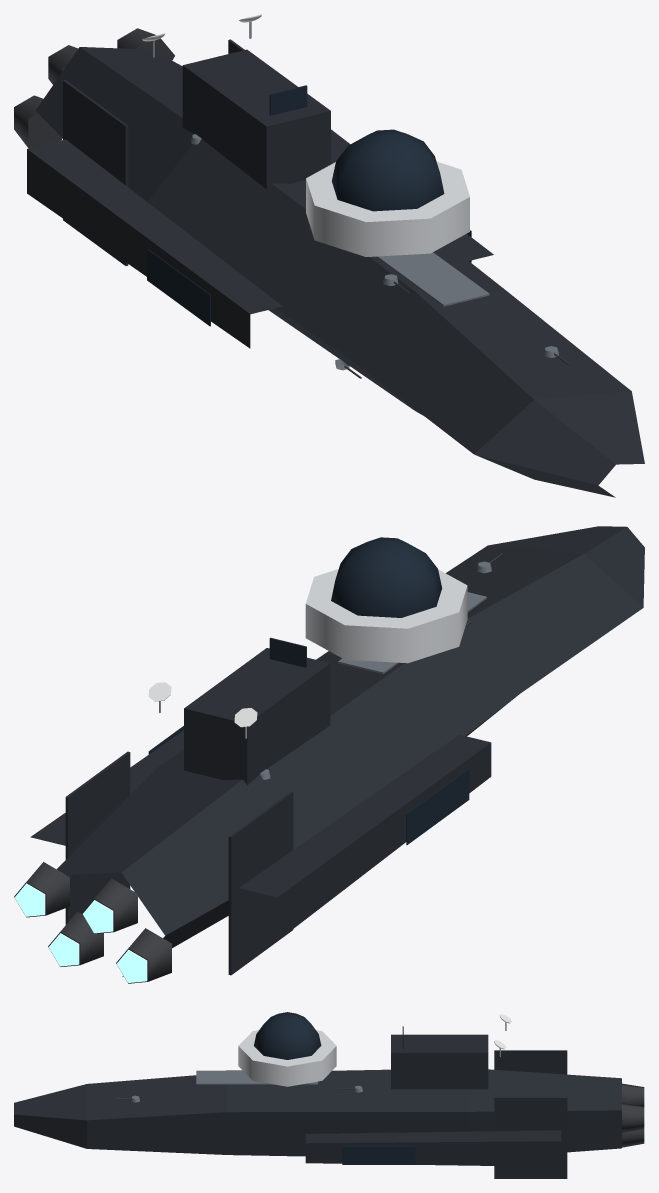
Rendered from space_ship_command_ship_mk4_lod1.glb.
The picture shows the model from 3 angles, top to bottom: view 1: azimuth 30°, elevation 25°; view 2: azimuth 150°, elevation 25°; view 3: azimuth 270°, elevation 25°; orthographic projection. The views are drawn at different scales.
Visible parts, largest first — view 1: body, hangar_r, engine_0, engine_3; view 2: body, engine_1, engine_0, engine_3, hangar_r, engine_2; view 3: body, hangar_l, engine_3, engine_1, engine_2.
Boxes of the visible parts, left/top/right/bottom form: body: left=27, top=39, right=644, bottom=497; hangar_r: left=147, top=249, right=210, bottom=326; engine_0: left=14, top=95, right=62, bottom=148; engine_3: left=117, top=28, right=174, bottom=60; body: left=30, top=526, right=644, bottom=976; engine_1: left=82, top=878, right=137, bottom=933; engine_0: left=116, top=928, right=171, bottom=983; engine_3: left=14, top=862, right=69, bottom=917; hangar_r: left=406, top=768, right=469, bottom=845; engine_2: left=48, top=911, right=103, bottom=966; body: left=14, top=1012, right=621, bottom=1178; hangar_l: left=342, top=1146, right=415, bottom=1164; engine_3: left=622, top=1103, right=644, bottom=1132; engine_1: left=622, top=1083, right=644, bottom=1107; engine_2: left=622, top=1128, right=644, bottom=1147.
Size of the model in its own units: 31.34 by 27.65 by 113.
